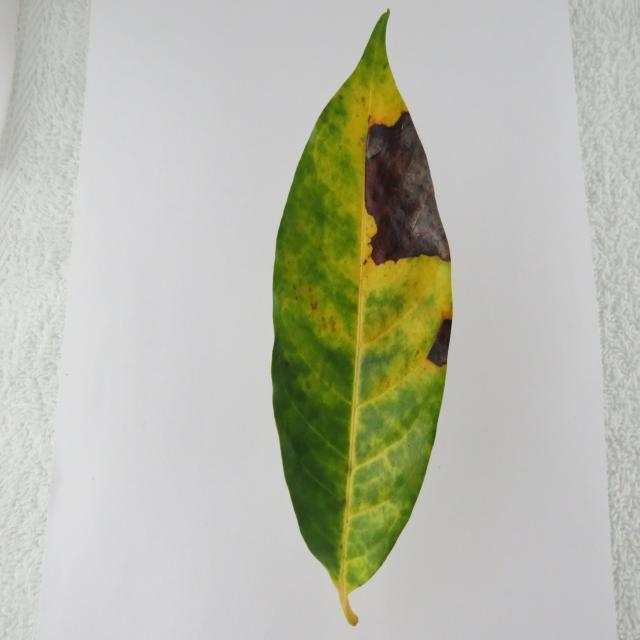DeficienciaNutricional-Potasio: (271, 12, 452, 625)
